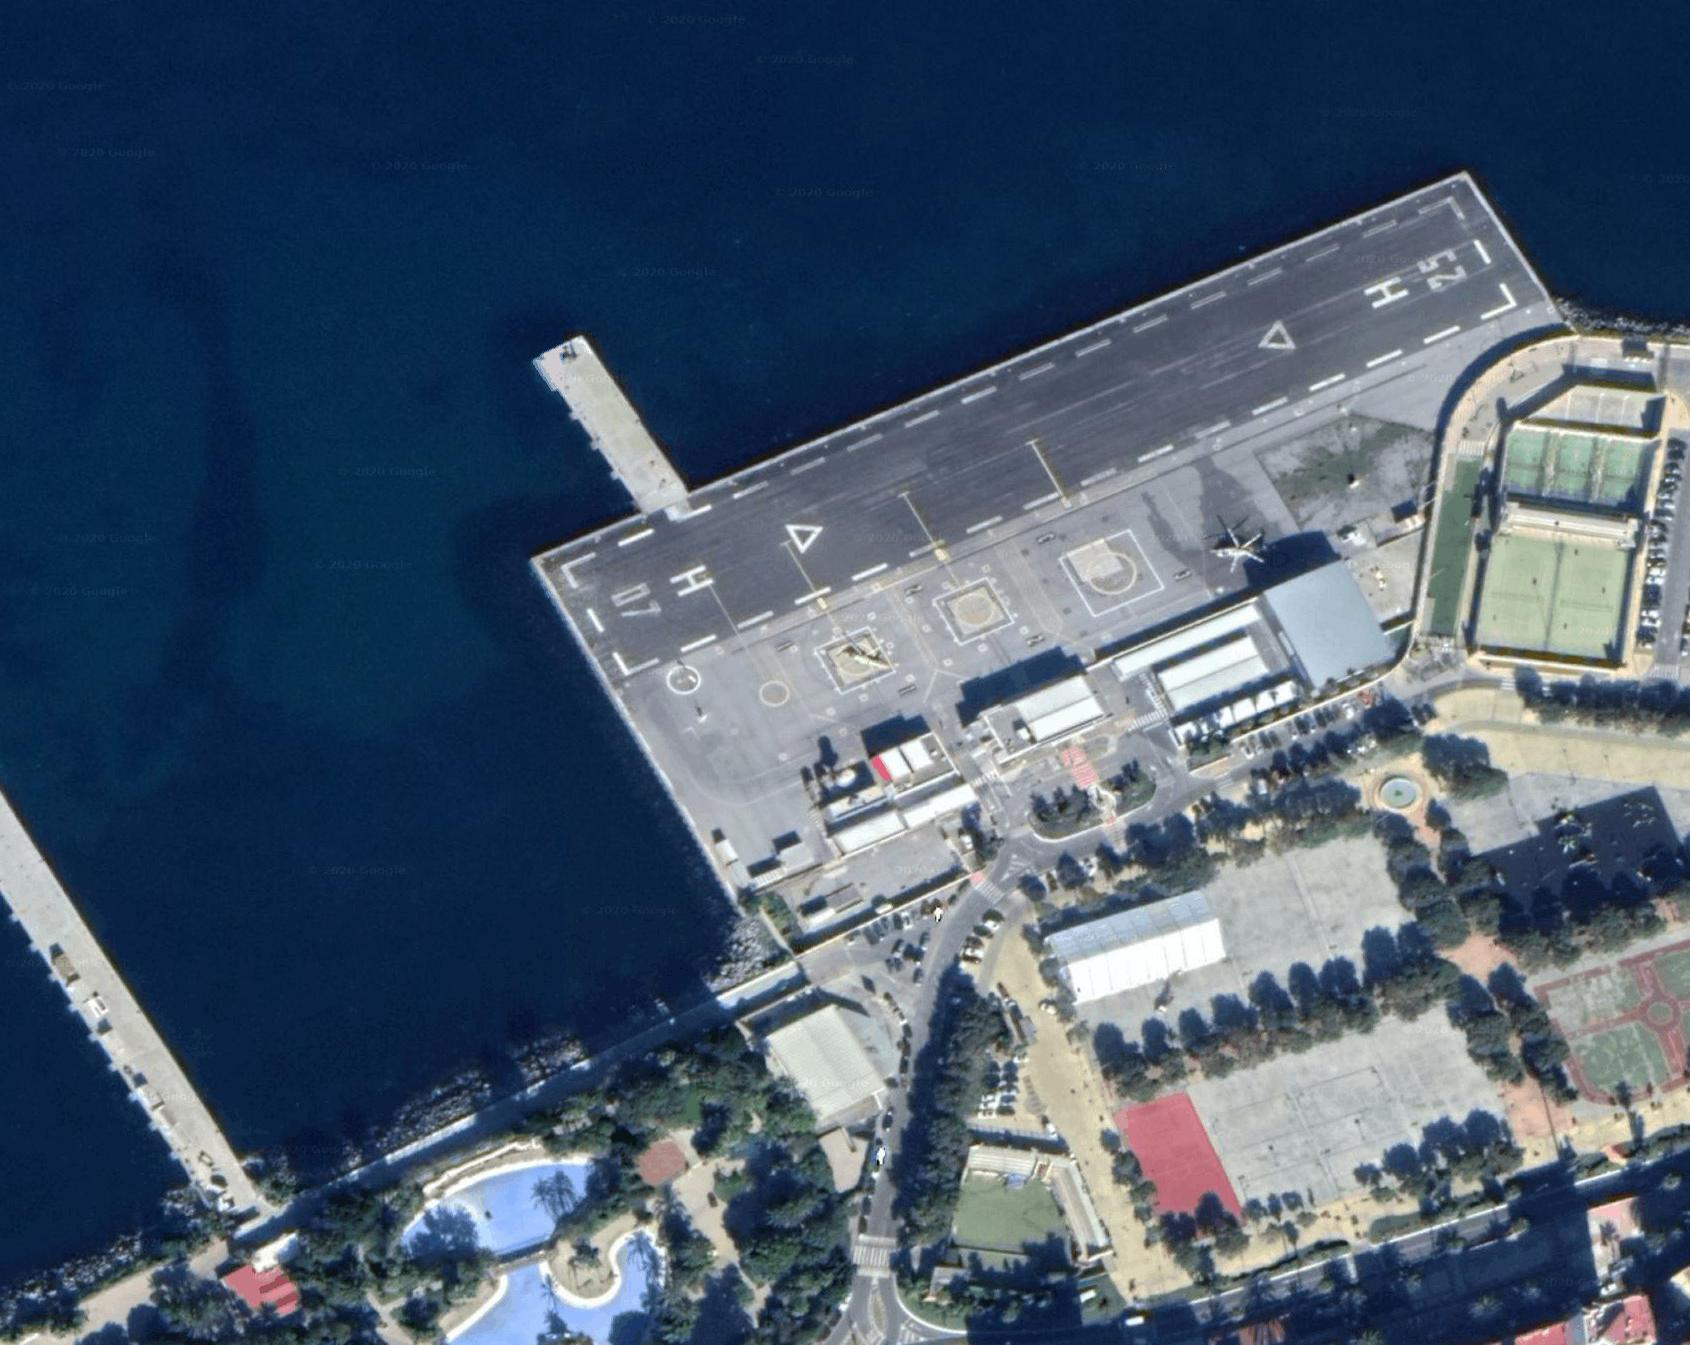harbor: (529, 331, 685, 506)
helicopter: (1203, 513, 1274, 586), (826, 623, 897, 696)
helipad: (805, 613, 916, 697), (1060, 537, 1161, 608), (931, 576, 1019, 640)
